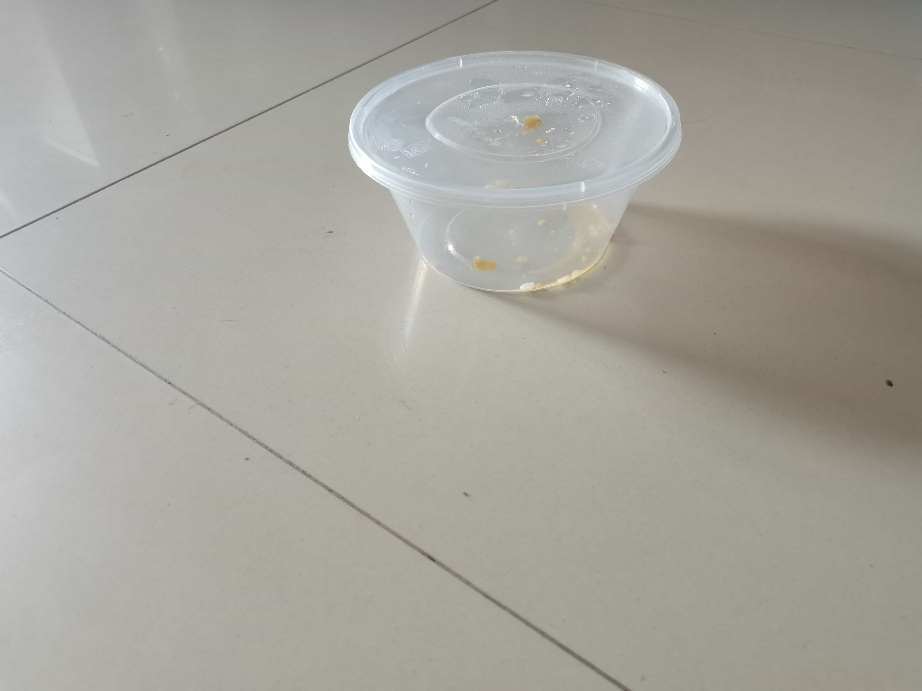fastfood box: (343, 42, 688, 297)
